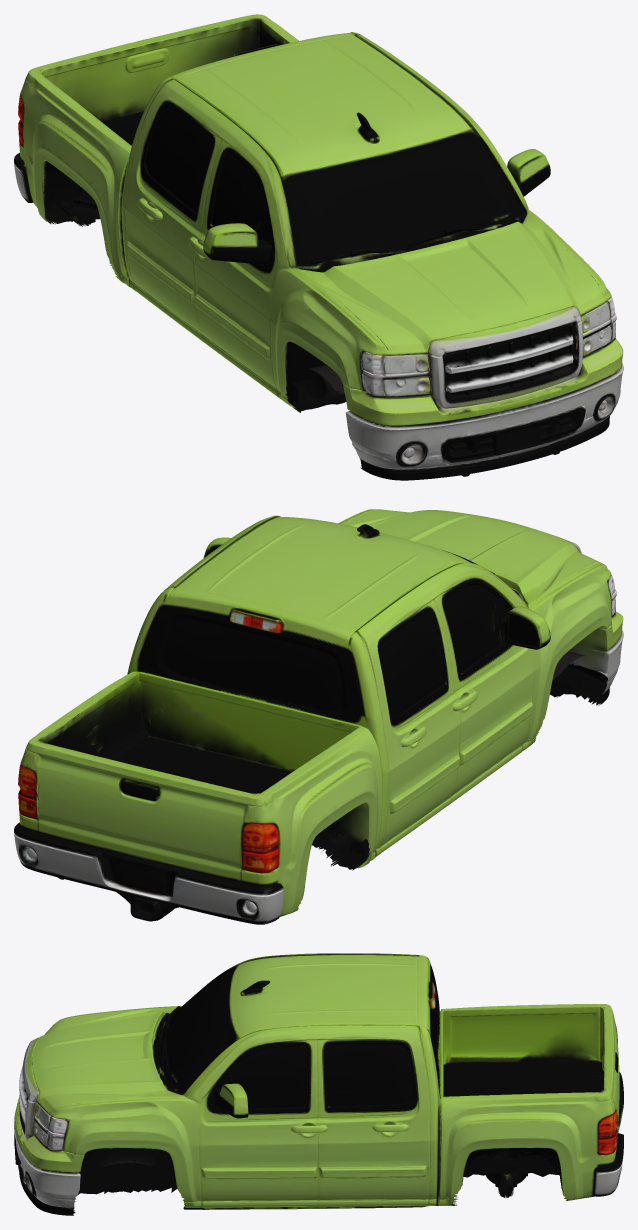
Rendered from pickup.glb.
3 renders of one model, top to bottom at view 1: azimuth 30°, elevation 25°; view 2: azimuth 150°, elevation 25°; view 3: azimuth 270°, elevation 25°, orthographic. The views are drawn at different scales.
Visible parts, largest first — view 1: material; view 2: material; view 3: material.
Part boxes in pixels (bbox=[...]): material: bbox=[14, 14, 623, 480]; material: bbox=[14, 509, 623, 924]; material: bbox=[14, 953, 623, 1215].
Size of the model in its own units: 0.5119 by 0.3738 by 1.
1 material, 1 textured.
